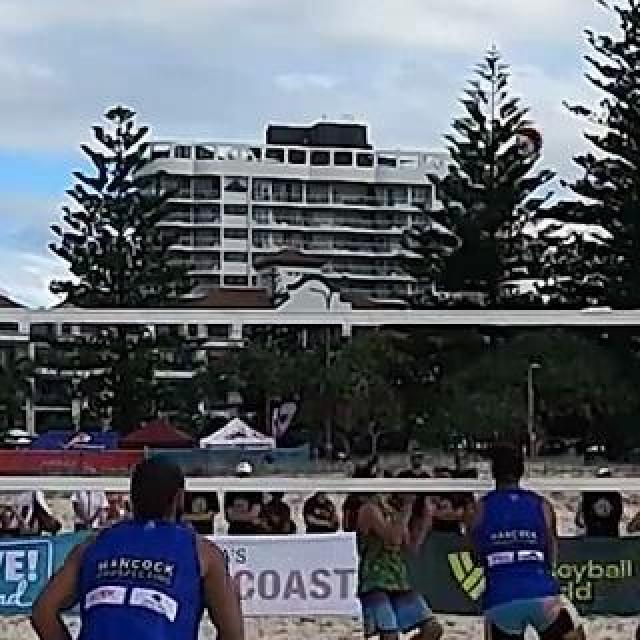volleyball: (516, 127, 544, 155)
